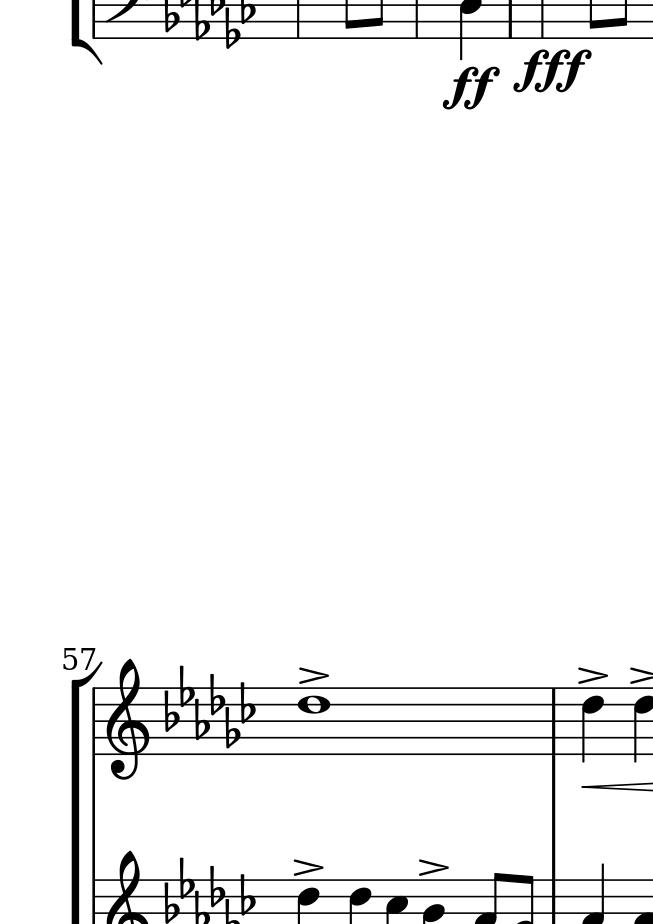1_6: (297, 687, 331, 758)
4_6: (580, 686, 605, 764), (630, 686, 653, 766)
Accent_above: (576, 665, 608, 686), (417, 856, 449, 877), (291, 857, 323, 877), (299, 665, 331, 684)
G_F: (164, 666, 256, 748)
Gclef: (104, 658, 150, 781)
Single_barline: (86, 689, 101, 755), (546, 689, 561, 755)
ff: (441, 65, 499, 114)
fff: (511, 48, 593, 99)
